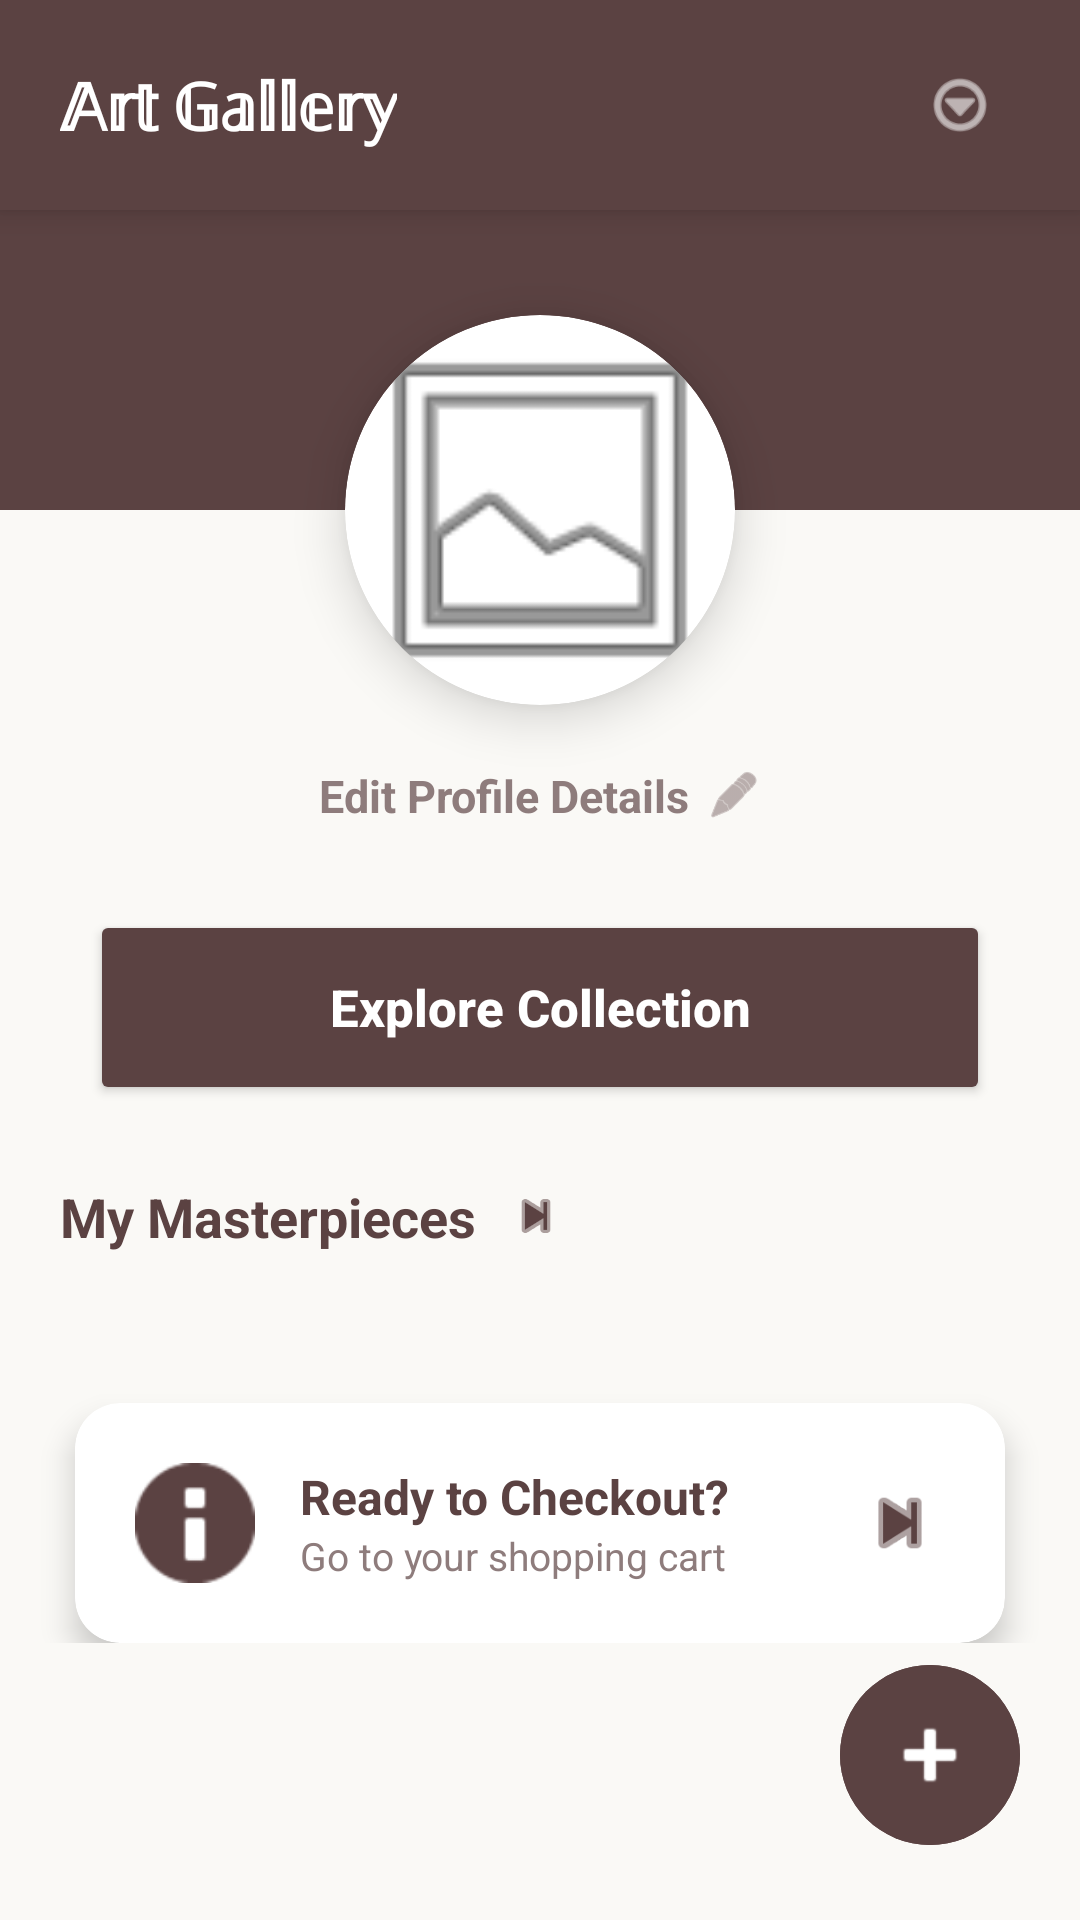

Locate icon controls on the screen. Image size 1080w x 1920h, boxes as BBox(x1, y1, x2, y2).
add: BBox(840, 1665, 1020, 1845)
info: BBox(135, 1463, 255, 1583)
next: BBox(521, 1199, 551, 1233), BBox(878, 1497, 922, 1549)
Options: BBox(933, 78, 987, 132)
